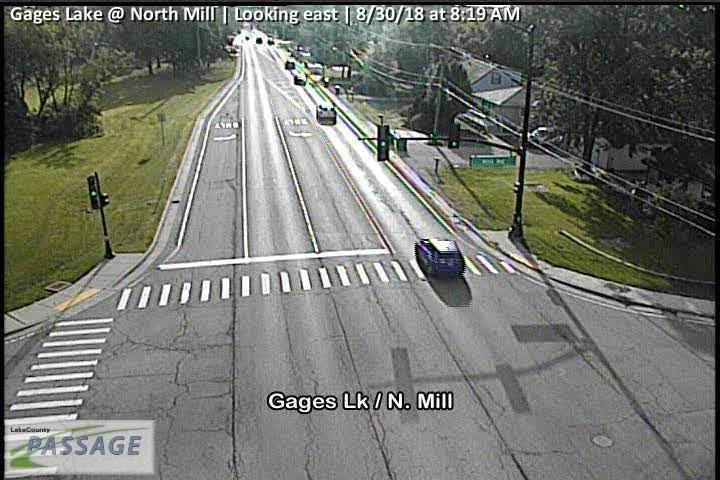SUV: (415, 238, 466, 277), (317, 103, 336, 124), (294, 74, 305, 85), (285, 60, 295, 68)
